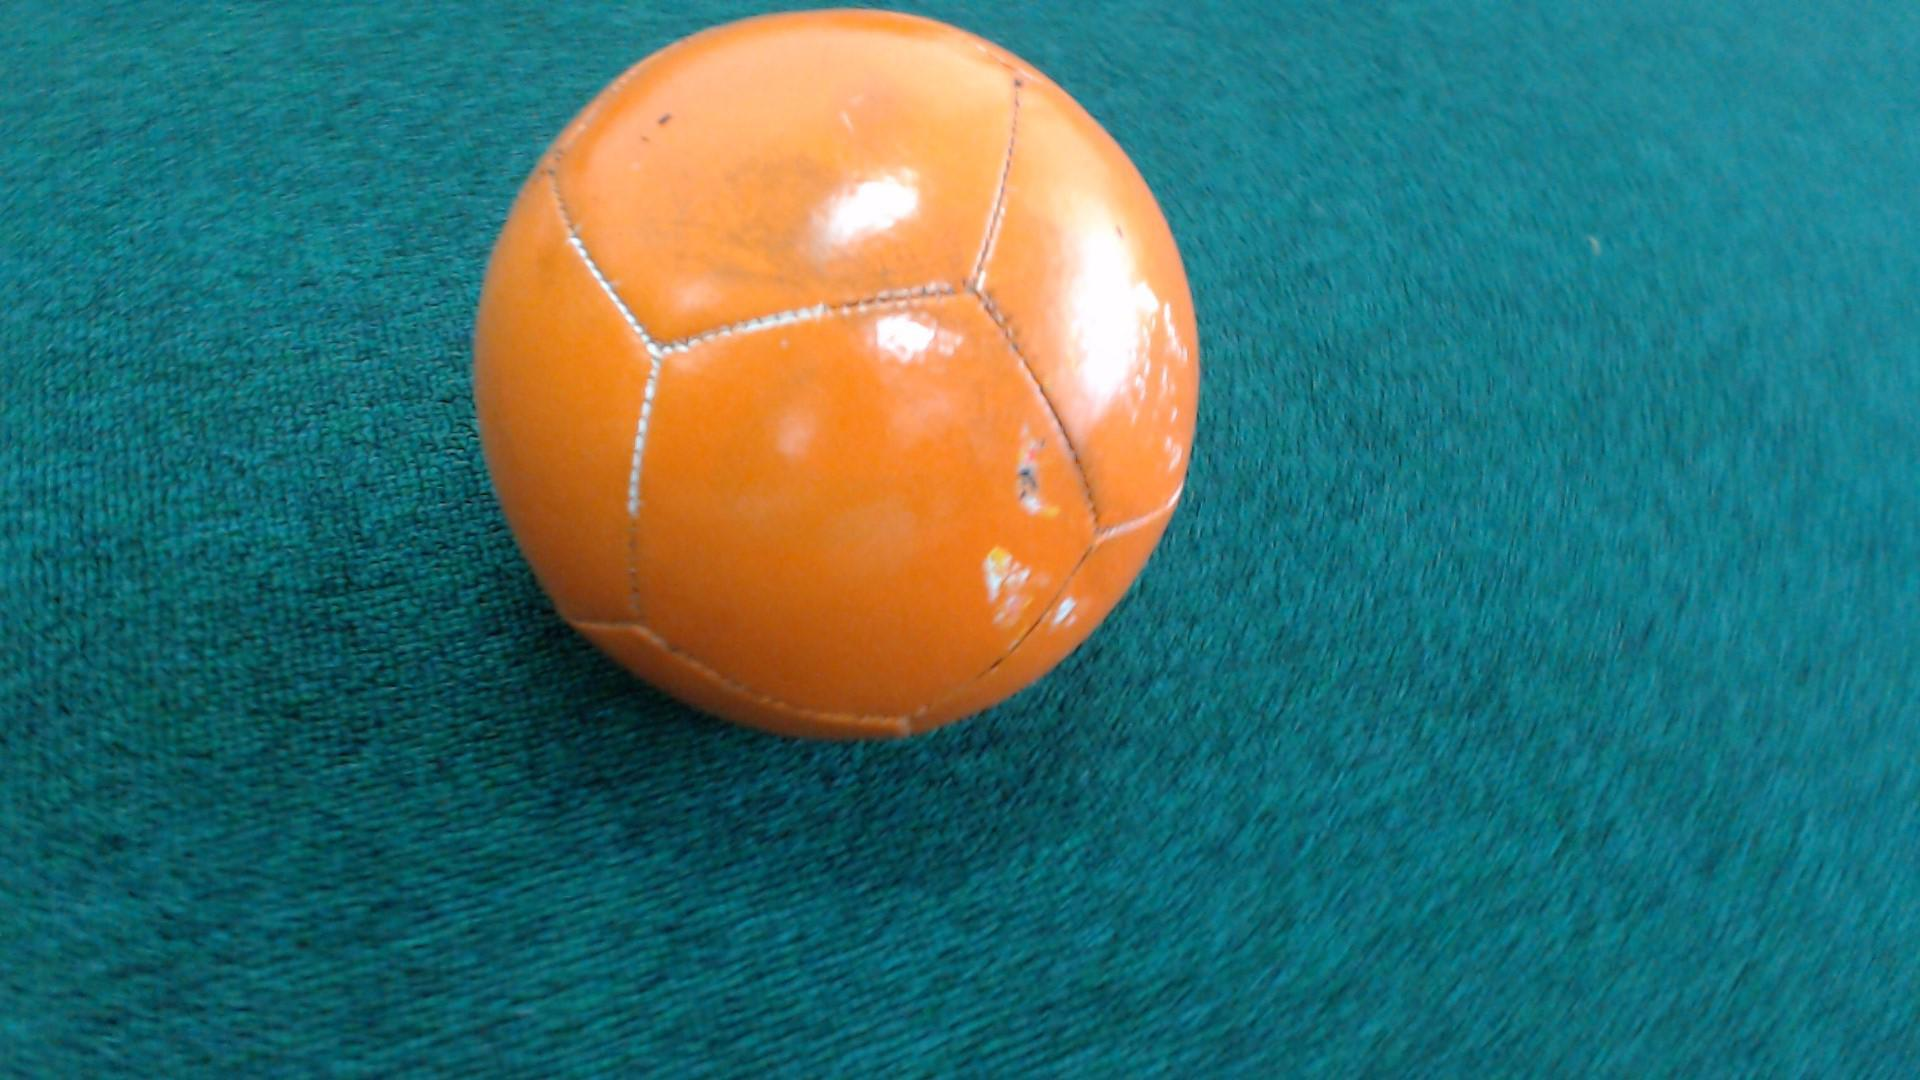bola: (462, 0, 1236, 777)
